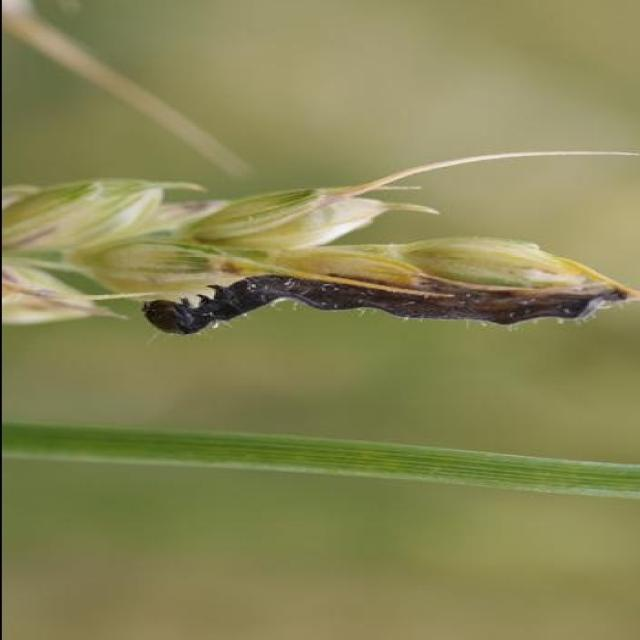army worm: (135, 274, 614, 358)
